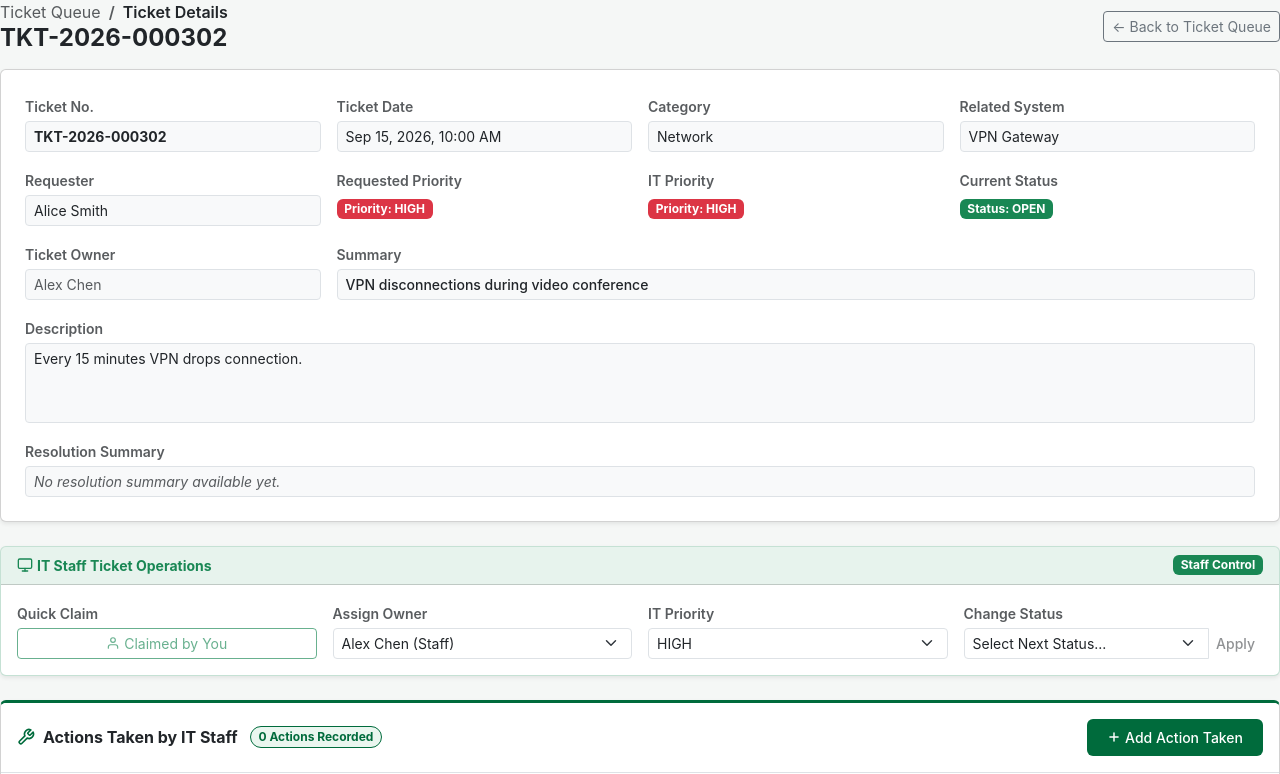
Scenario: IT Staff Ticket Operations & Status Matrix (Issue 24 / FR-11 & FR-13) › BR-14 Status Transition Matrix › displays error feedback when status update fails
Select "In Progress" in the dropdown with test id "status-transition-selector". click: (1086, 643)
box: [964,628,1209,659]
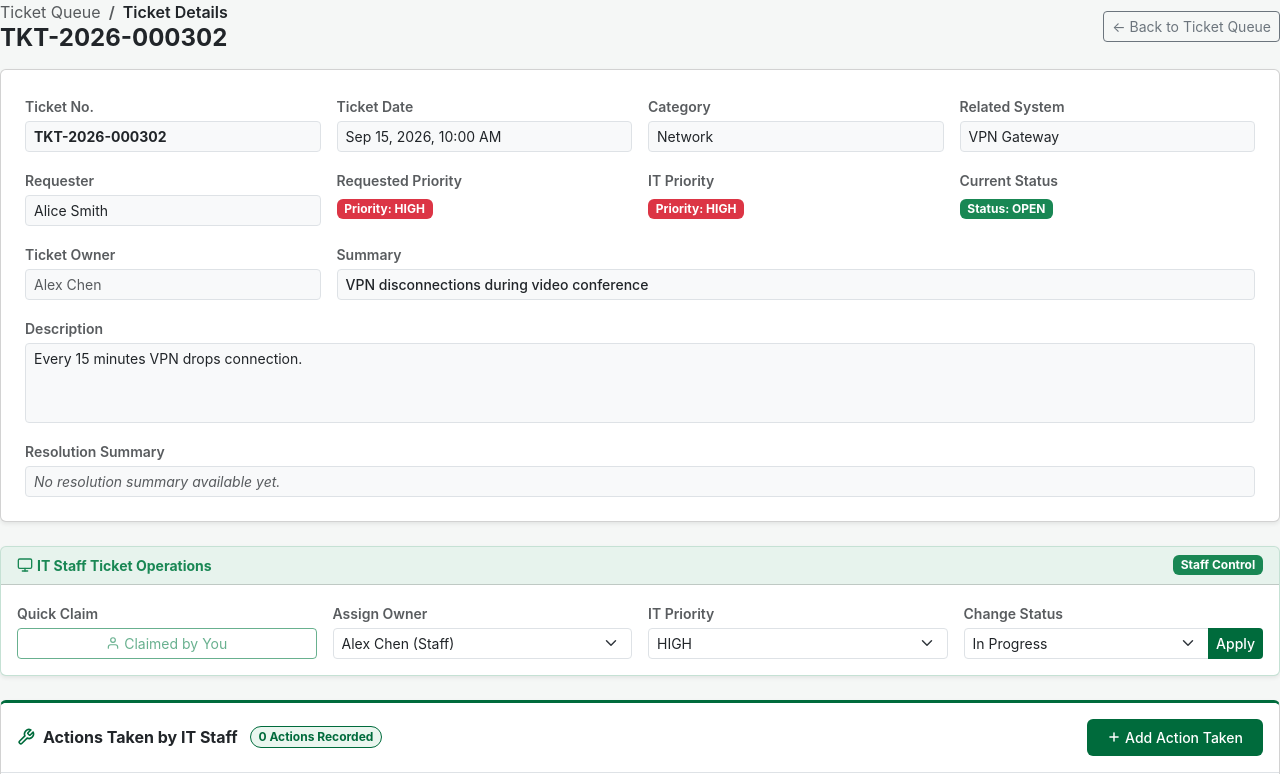
Click the button with test id "apply-status-btn". click: (1236, 643)
box: [1208,628,1263,659]
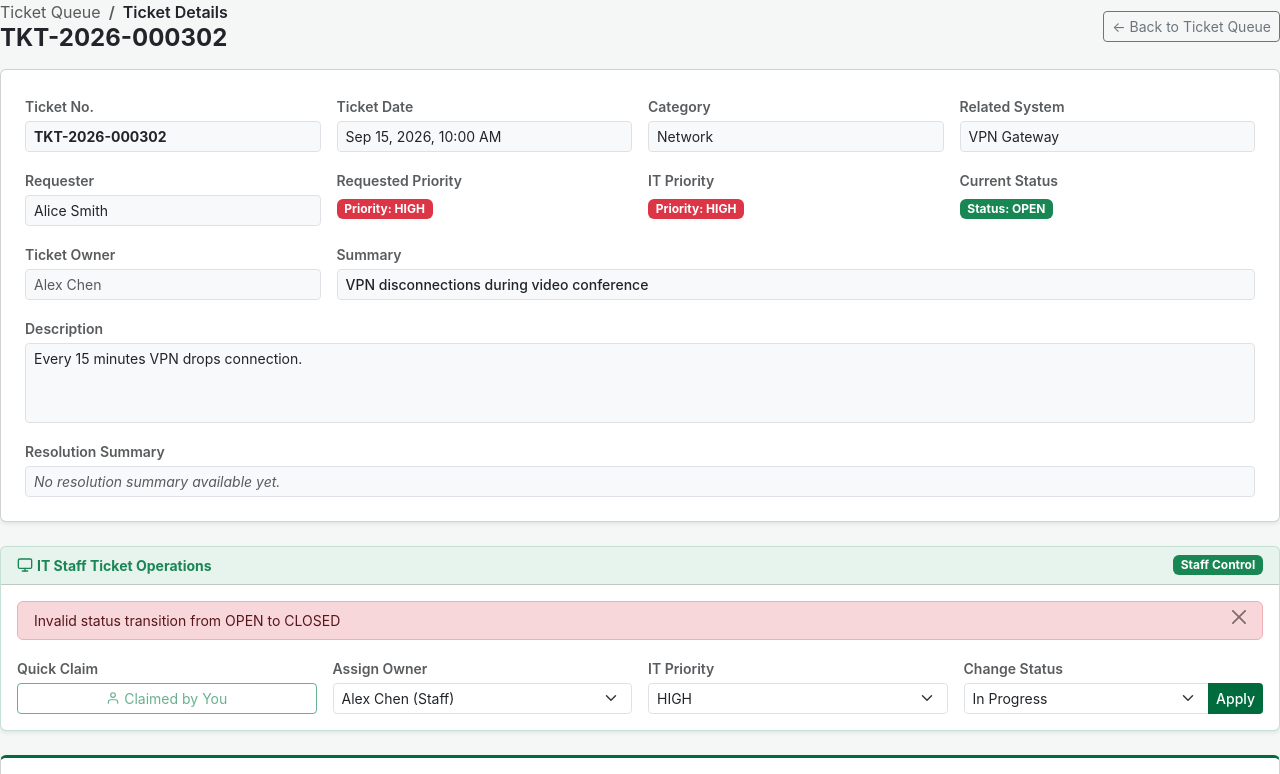
Check: the message with test id "operation-feedback" reads "Invalid status transition from OPEN to CLOSED", box [34,612,340,629]
